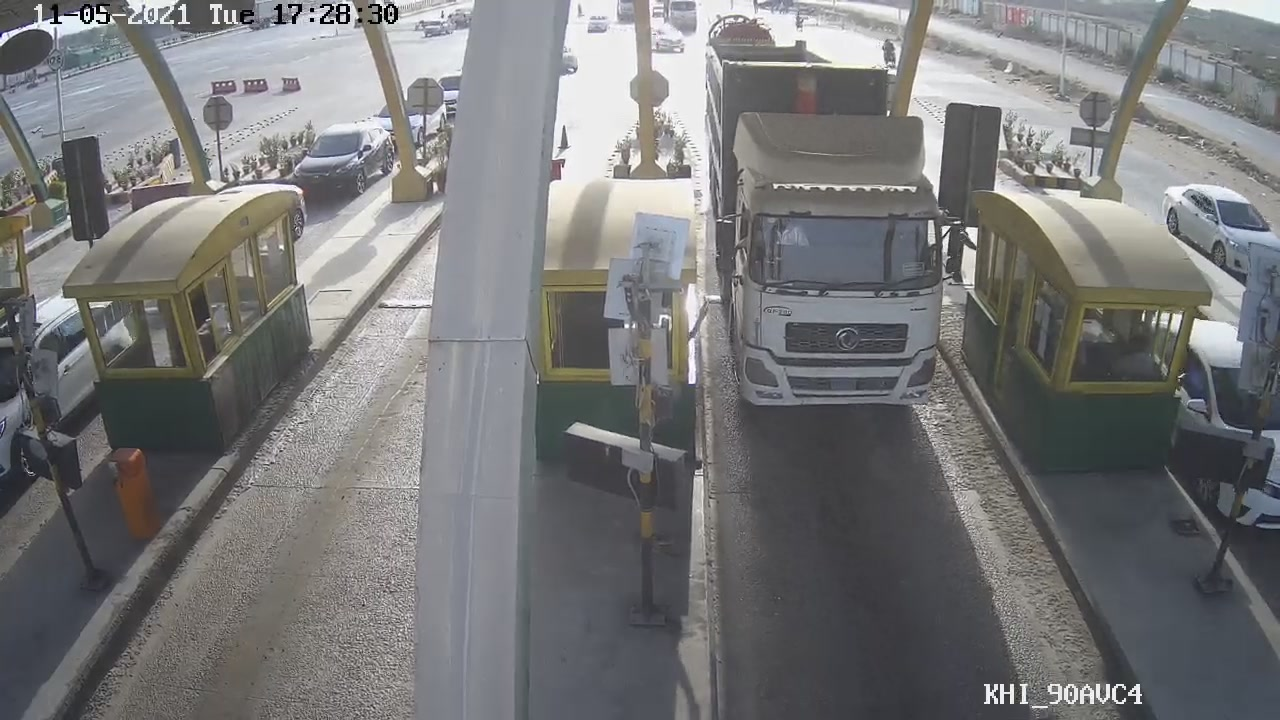F6: (706, 64, 975, 412)
